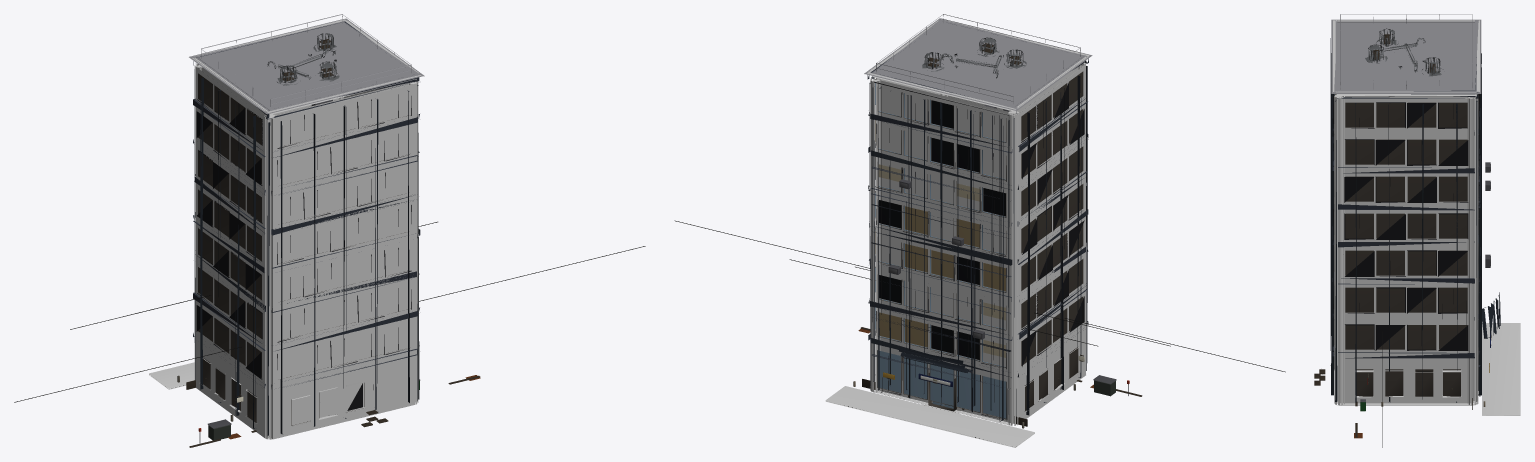
File: hm_midrise_v10_soft.obj
The picture shows the model from 3 angles, left to right: view 1: azimuth 30°, elevation 25°; view 2: azimuth 150°, elevation 25°; view 3: azimuth 270°, elevation 25°; orthographic projection. The views are drawn at different scales.
Visible parts, largest first — view 1: SoftLOD; view 2: SoftLOD; view 3: SoftLOD.
Boxes of the visible parts, bbox=[...] form: SoftLOD: bbox=[14, 14, 645, 447]; SoftLOD: bbox=[674, 14, 1285, 447]; SoftLOD: bbox=[1314, 14, 1520, 447].
Bounding box in the file's own units: 58 × 29.9 × 17.15.
